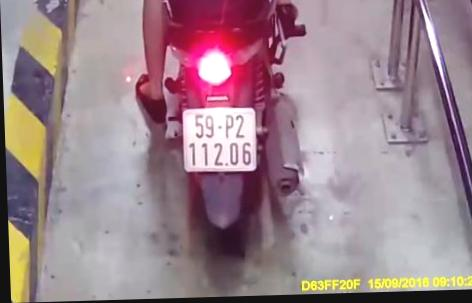License_Plate: (170, 100, 267, 183)
